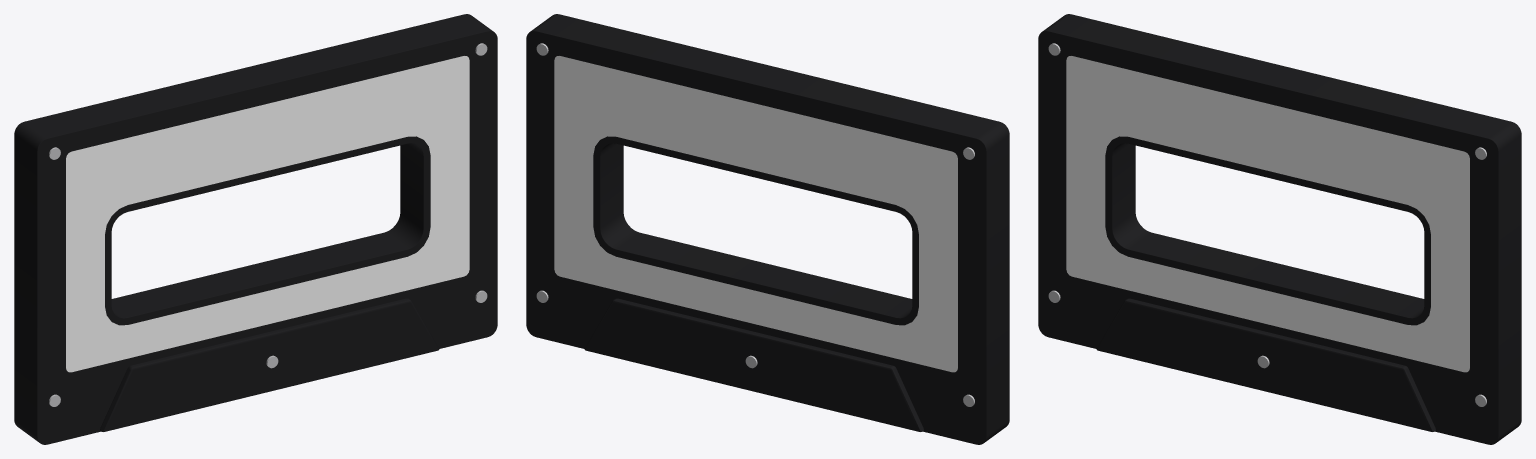
File: tape_cassette.glb
The picture shows the model from 3 angles, left to right: view 1: azimuth 30°, elevation 25°; view 2: azimuth 150°, elevation 25°; view 3: azimuth 330°, elevation 25°; orthographic projection.
Visible parts, largest first — view 1: cassette_shell, label_a, cassette_ridge_a, cassette_screws; view 2: cassette_shell, label_b, cassette_ridge_b, cassette_screws; view 3: cassette_shell, label_a, cassette_ridge_a, cassette_screws.
Boxes of the visible parts, x1,y1,x2,y2 form: cassette_shell: (14, 14, 497, 444); label_a: (66, 56, 469, 372); cassette_ridge_a: (100, 298, 439, 431); cassette_screws: (49, 43, 487, 406); cassette_shell: (526, 14, 1009, 444); label_b: (554, 56, 957, 372); cassette_ridge_b: (584, 298, 923, 431); cassette_screws: (536, 43, 974, 406); cassette_shell: (1038, 14, 1521, 444); label_a: (1066, 56, 1469, 372); cassette_ridge_a: (1096, 298, 1435, 431); cassette_screws: (1048, 43, 1486, 406).
Size of the model in its own units: 0.1004 by 0.0638 by 0.0128.
6 materials, 2 textured.
